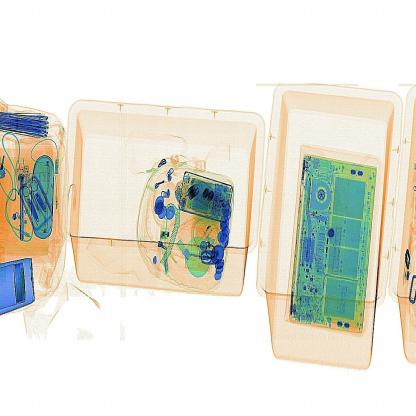pliers: (13, 169, 34, 244)
